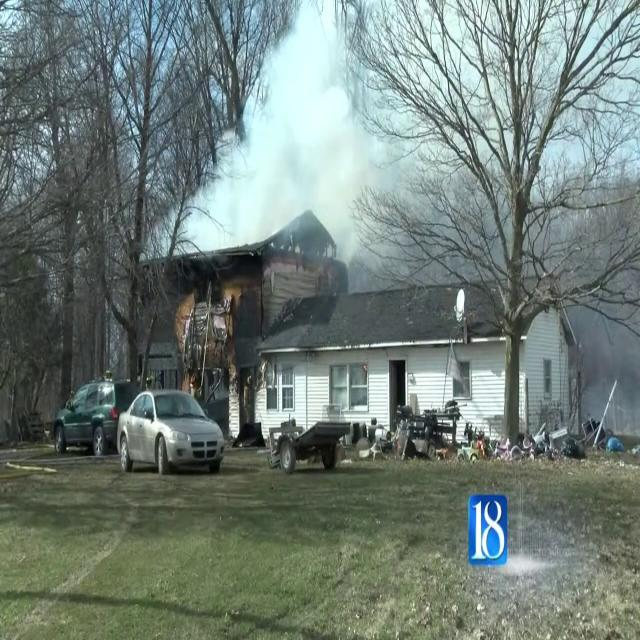Smoke: (175, 3, 412, 260)
